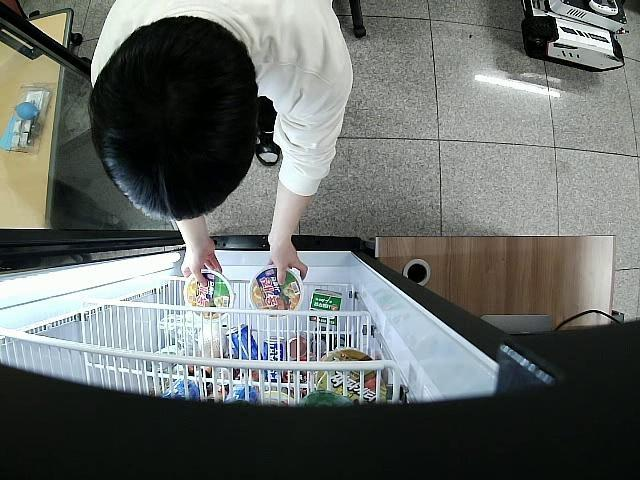09_yukGaeJang: (250, 266, 302, 318), (184, 270, 234, 320)
